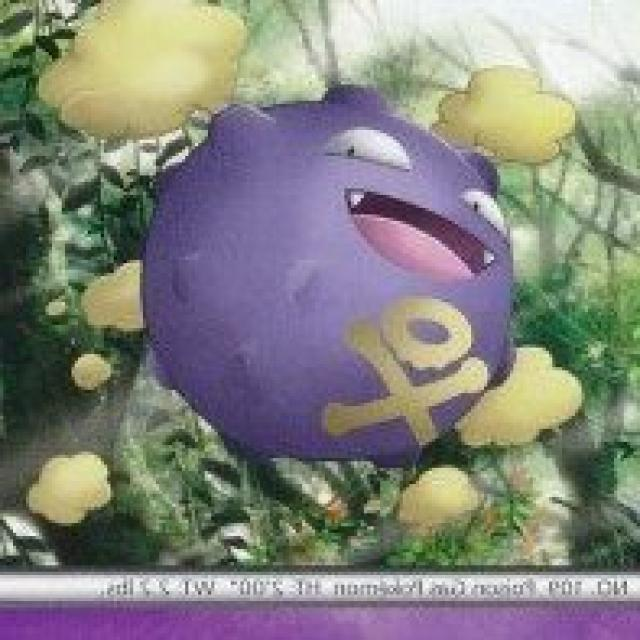Koffing: (136, 79, 532, 478)
